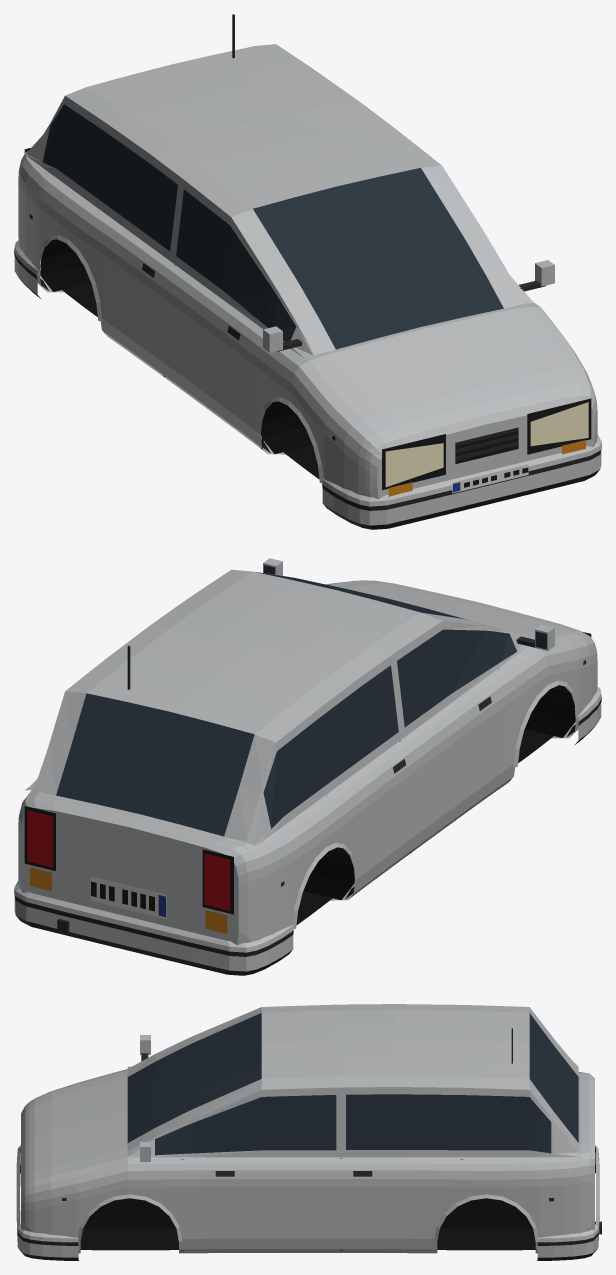
File: peugeot-307.glb
3 renders of one model, top to bottom at view 1: azimuth 30°, elevation 25°; view 2: azimuth 150°, elevation 25°; view 3: azimuth 270°, elevation 25°, orthographic. The views are drawn at different scales.
Parts seen in each view (by area): view 1: LOD0, door_FR, door_RR; view 2: LOD0, door_FR, door_RR; view 3: LOD0, door_FL, door_RL.
Boxes of the visible parts, x1,y1,x2,y2 form: LOD0: (14,14,601,529); door_FR: (162,181,280,445); door_RR: (84,124,178,372); LOD0: (14,558,601,975); door_FR: (396,621,513,848); door_RR: (317,656,412,893); LOD0: (16,1004,601,1260); door_FL: (182,1087,339,1249); door_RL: (343,1087,462,1249).
Size of what is drawn, in the model's own units: 1.94 by 1.65 by 4.3.
